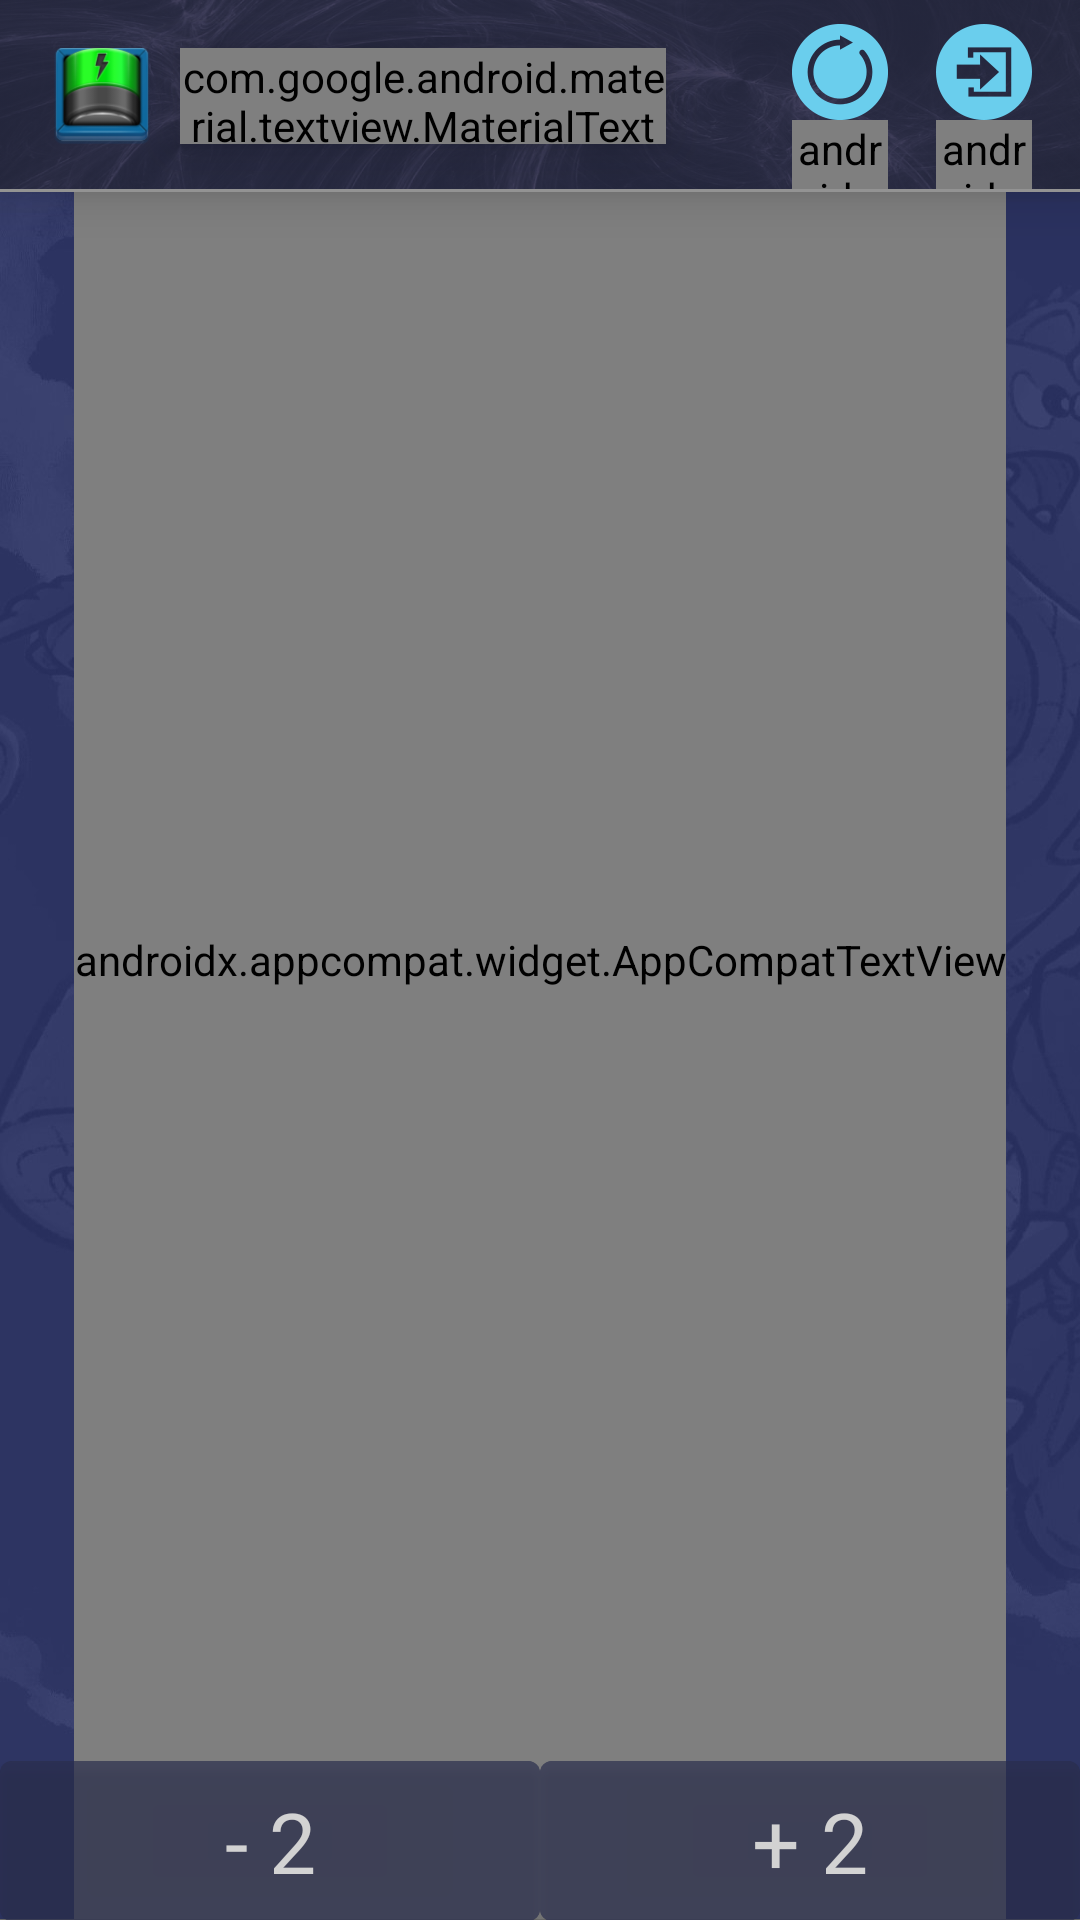

Icons on this 1080w x 1920h Android screen, each with the point to tap as (x,y):
energy: (102,94)
exit: (984,72)
refresh: (840,72)
